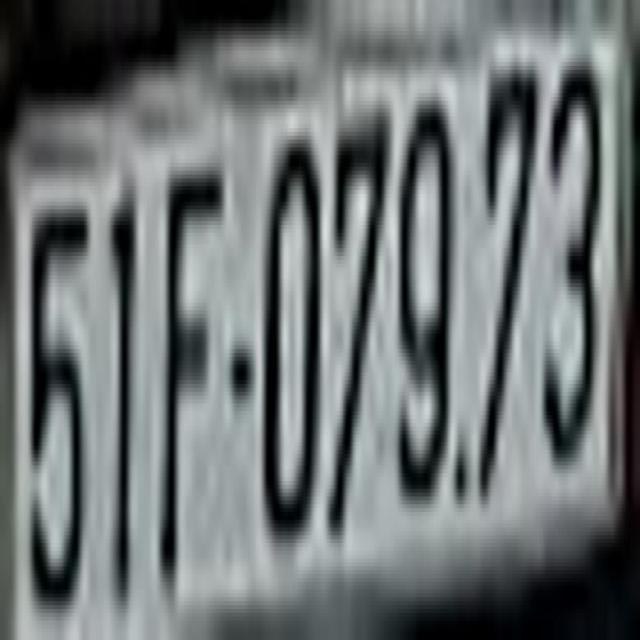0: (262, 124, 320, 551)
1: (108, 186, 134, 605)
3: (542, 54, 602, 493)
5: (31, 198, 88, 617)
7: (474, 51, 539, 524), (325, 101, 391, 558)
9: (397, 104, 451, 520)
F: (159, 140, 224, 574)
